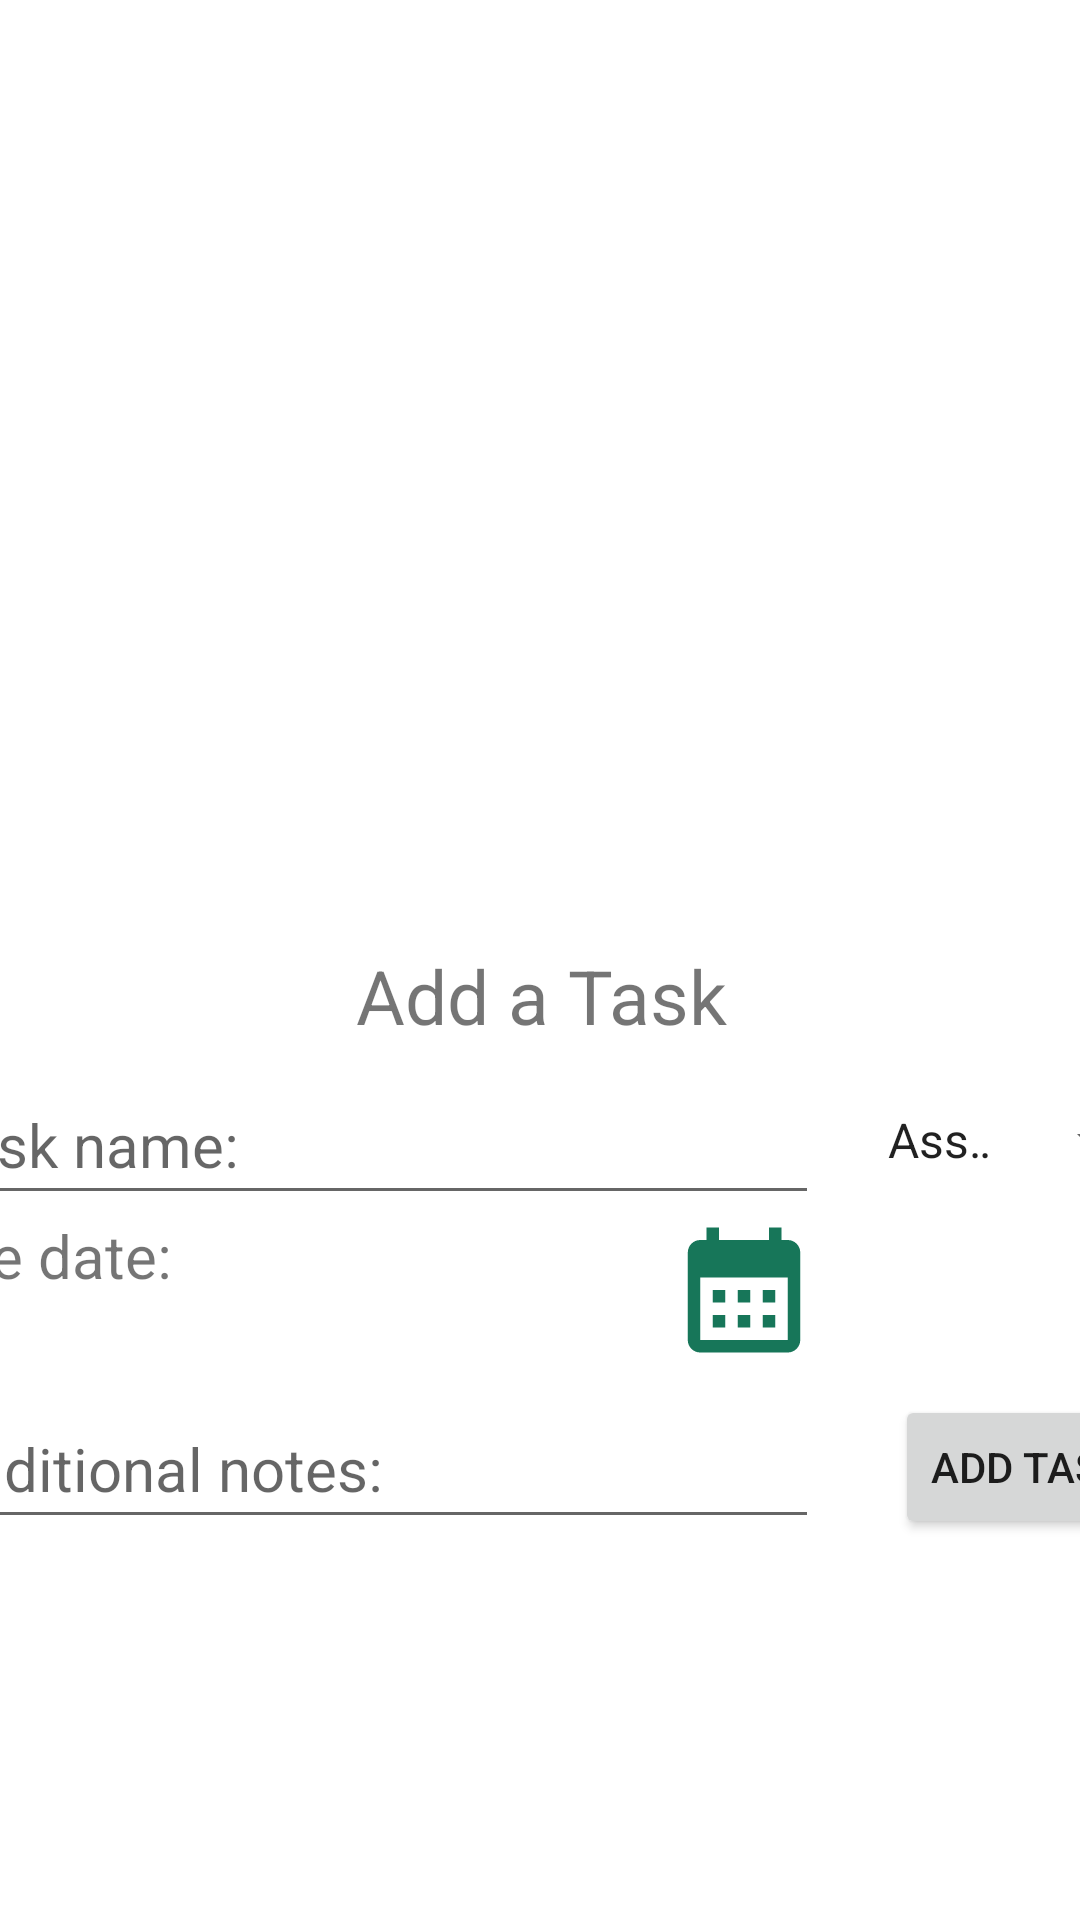

Locate icon controls on the screen. Image size 1080 × 1920, boxes as (x1, y1, x2, y2).
calendar: (687, 1227, 801, 1353)
